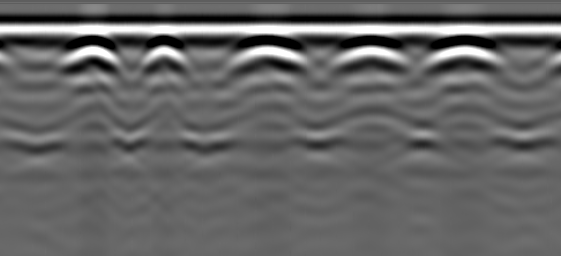steel: (329, 34, 409, 71), (231, 36, 306, 74), (428, 36, 500, 71), (62, 35, 122, 71), (139, 36, 188, 73)
